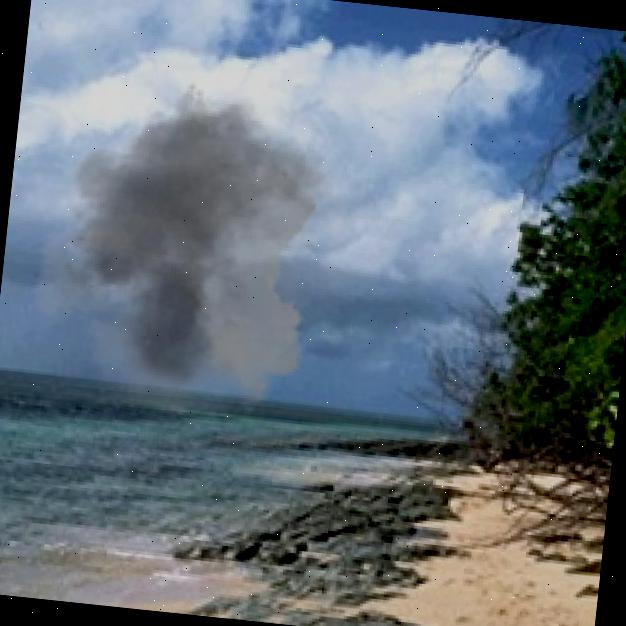smoke: (5, 55, 402, 437)
